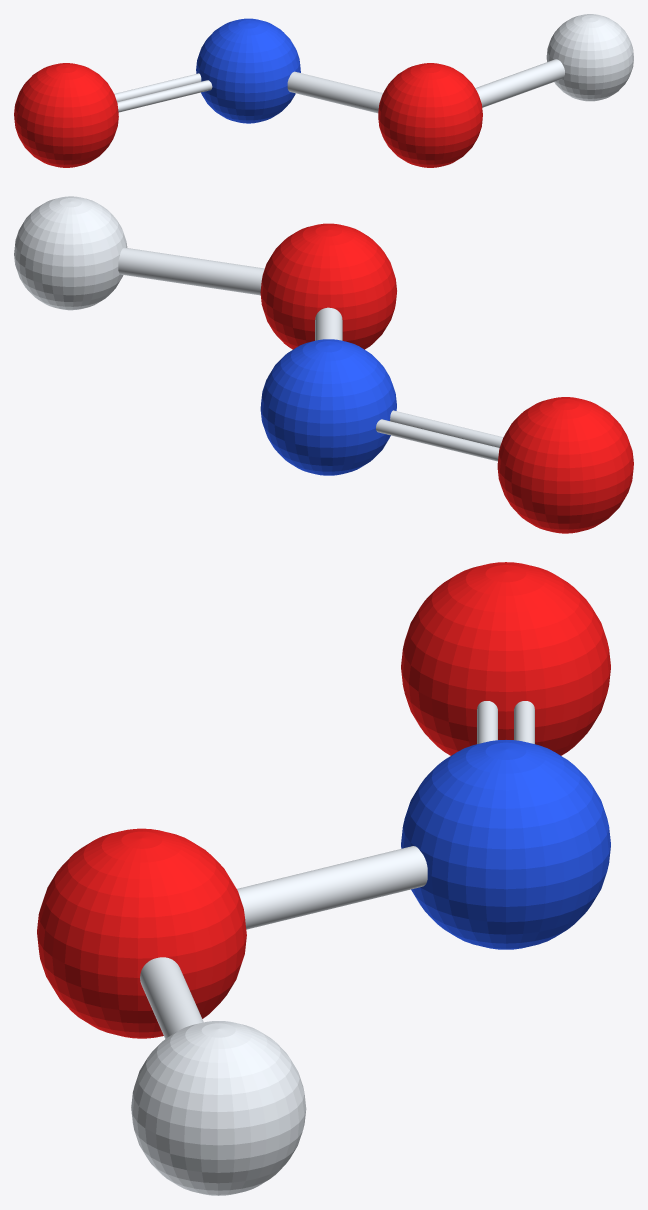
Rendered from nitrous_acid.fbx.
3 views of the same model, one above another, from view 1: azimuth 30°, elevation 25°; view 2: azimuth 150°, elevation 25°; view 3: azimuth 270°, elevation 25° (orthographic). The views are drawn at different scales.
Visible parts, largest first — view 1: nitrous_acid; view 2: nitrous_acid; view 3: nitrous_acid.
Part boxes in pixels (bbox=[...]): nitrous_acid: bbox=[14, 14, 633, 167]; nitrous_acid: bbox=[14, 196, 633, 533]; nitrous_acid: bbox=[37, 562, 610, 1195].
Bounding box in the file's own units: 212 × 36 × 98.34.
